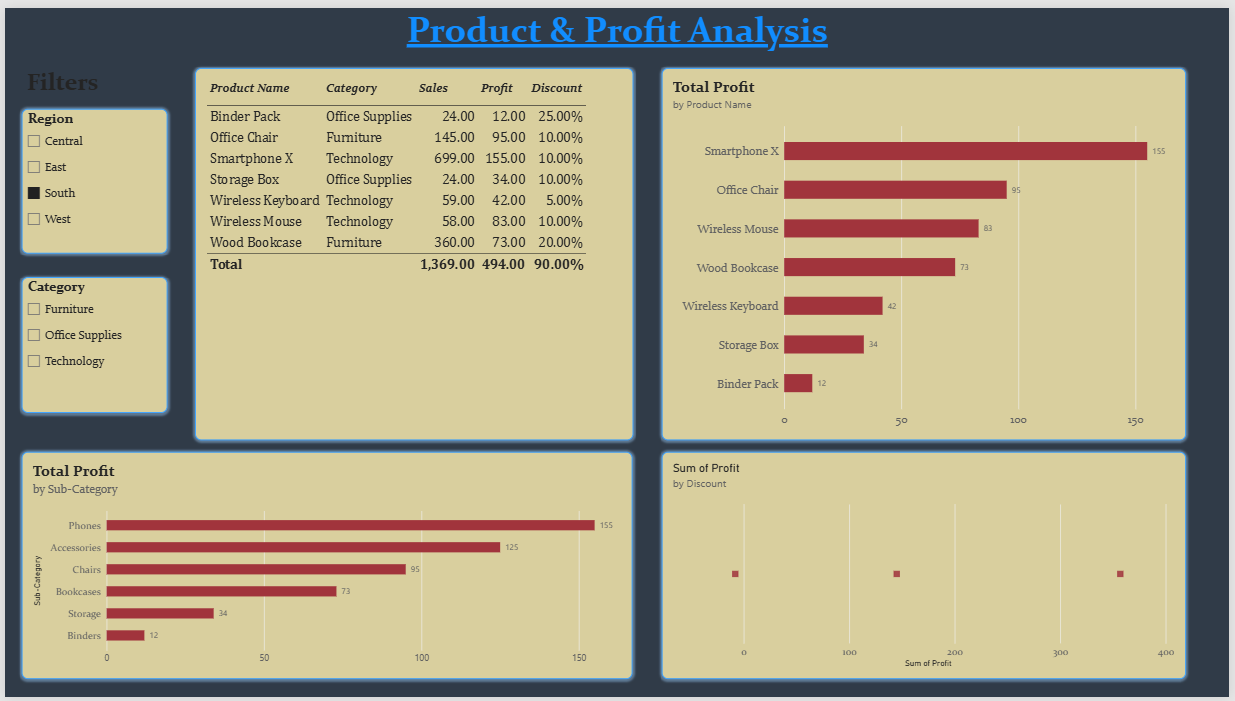

The dashboard page shown, as its layout file describes it:
{"tool":"powerbi","page":{"name":"Product & Profit Analysis","canvas":[1920,1080],"ordinal":1},"visuals":[{"type":"barChart","fields":{"Category":["SalesData.Sub-Category"],"Y":["SalesData.Total Profit"]},"box":[26.9,695.2,958.6,356.6],"z":0},{"type":"barChart","fields":{"Category":["SalesData.Product Name"],"Y":["SalesData.Total Profit"]},"box":[1030.3,93.2,822.4,584.1],"z":1},{"type":"scatterChart","fields":{"Category":["SalesData.Discount"],"X":["Sum(SalesData.Profit)"]},"box":[1030.3,695.2,822.4,356.6],"z":2},{"type":"tableEx","fields":{"Values":["SalesData.Product Name","SalesData.Category","Sum(SalesData.Sales)","Sum(SalesData.Profit)","Sum(SalesData.Discount)"]},"box":[297.4,93.2,688.1,584.1],"z":3},{"type":"slicer","fields":{"Values":["SalesData.Region"]},"box":[26.9,157.7,229.4,227.6],"z":4},{"type":"slicer","fields":{"Values":["SalesData.Category"]},"box":[26.9,421.1,229.4,213.2],"z":5},{"type":"textbox","box":[0,0,1920.8,80.6],"z":6},{"type":"textbox","box":[34,93.2,170.2,80.6],"z":7}]}

Visuals, with their boxes in screenshot pixels (x1, y1, x2, y2), scaled from the page's 1920x1080 canvas onto the 1235x701 screenshot:
barChart - SalesData.Sub-Category x SalesData.Total Profit: {"left": 17, "top": 451, "right": 634, "bottom": 683}
barChart - SalesData.Product Name x SalesData.Total Profit: {"left": 663, "top": 60, "right": 1192, "bottom": 440}
scatterChart - SalesData.Discount x Sum(SalesData.Profit): {"left": 663, "top": 451, "right": 1192, "bottom": 683}
tableEx - SalesData.Product Name x SalesData.Category: {"left": 191, "top": 60, "right": 634, "bottom": 440}
slicer - SalesData.Region: {"left": 17, "top": 102, "right": 165, "bottom": 250}
slicer - SalesData.Category: {"left": 17, "top": 273, "right": 165, "bottom": 412}
textbox: {"left": 0, "top": 0, "right": 1234, "bottom": 52}
textbox: {"left": 22, "top": 60, "right": 131, "bottom": 113}
